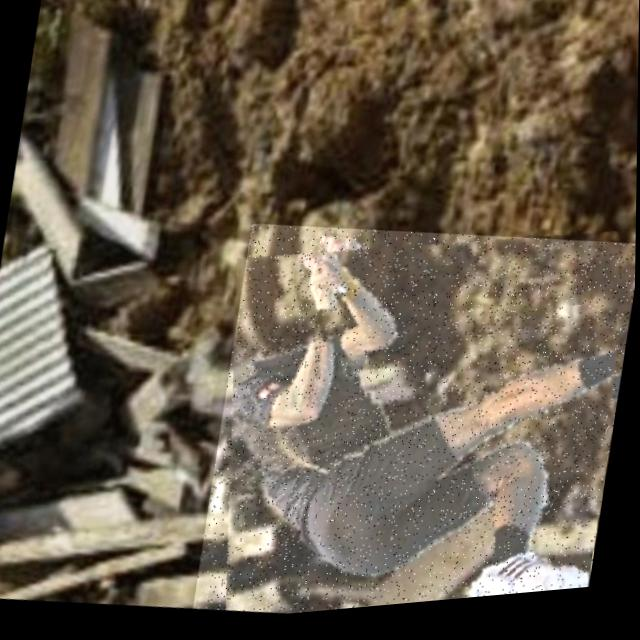Person in Rubble: (195, 200, 637, 626)
